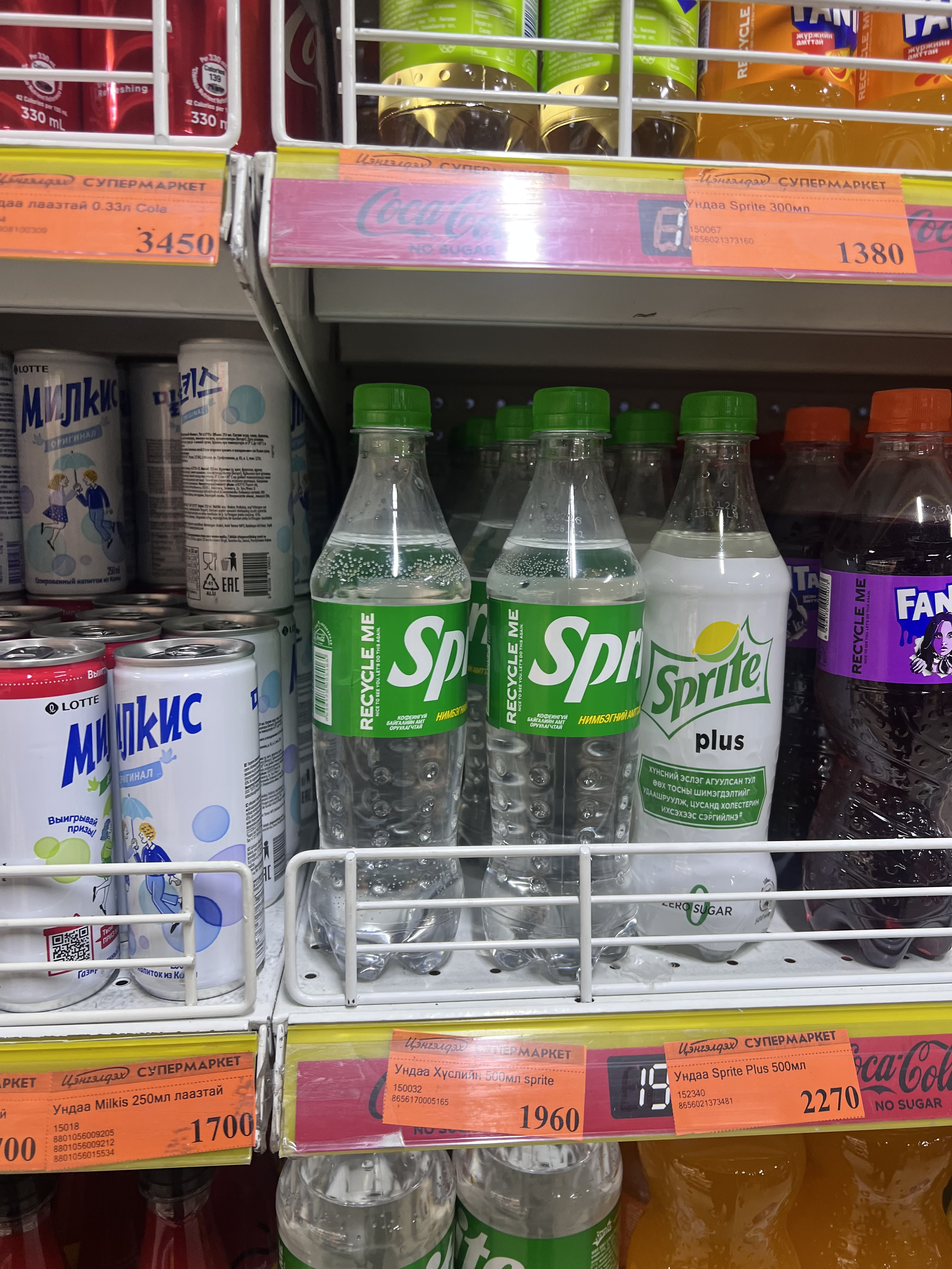coca_cola_500ml: (0, 0, 82, 132), (167, 0, 228, 136)
sprite_500ml: (311, 384, 470, 973), (483, 388, 644, 938), (636, 392, 789, 843)
